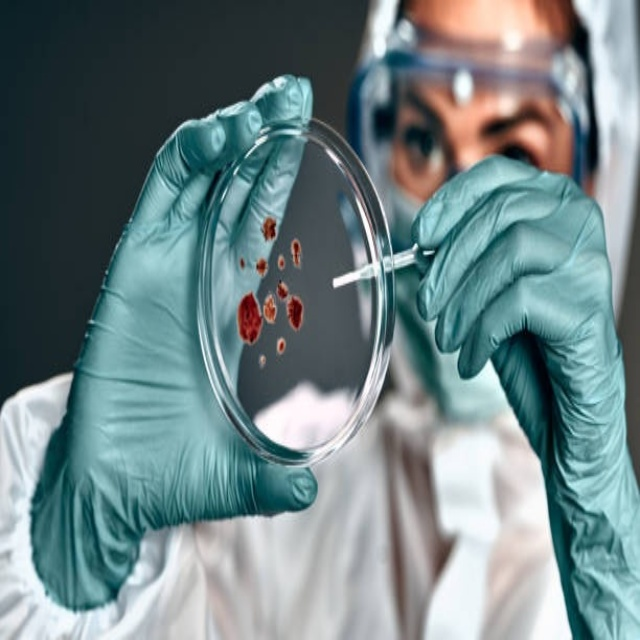Gafas: (347, 19, 591, 199)
Guantes: (30, 78, 324, 617), (405, 152, 638, 640)
